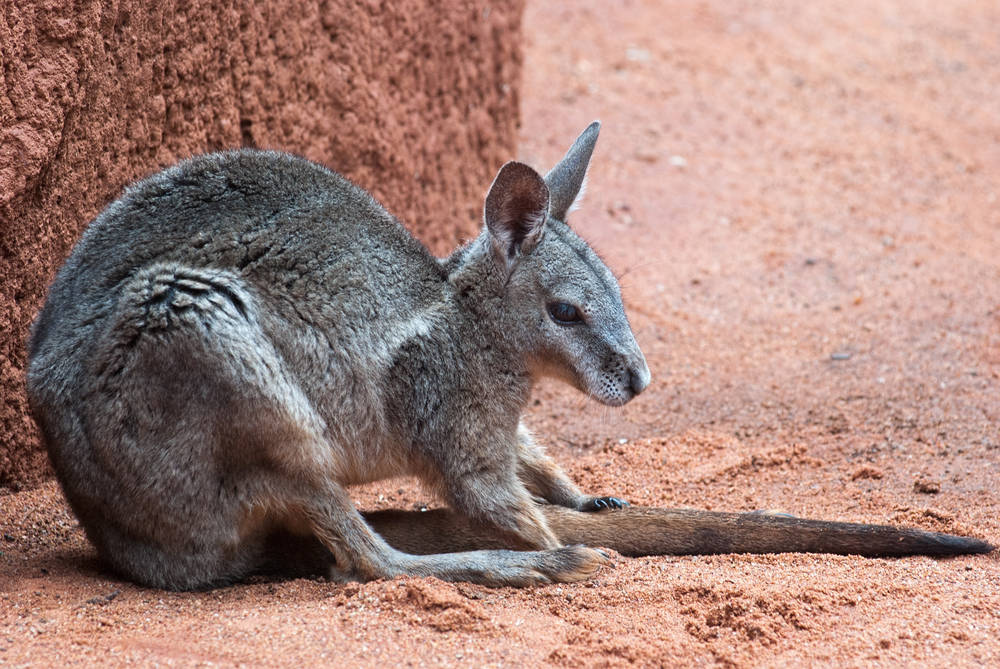kangaroo: (20, 116, 997, 595)
